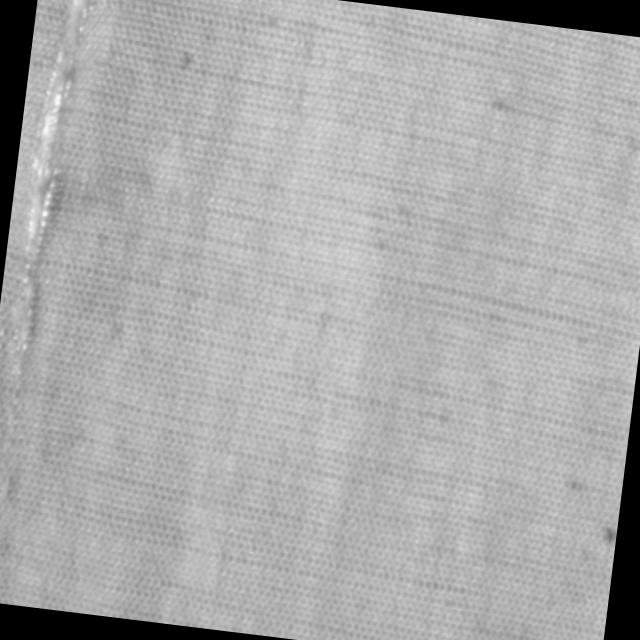thread error: (0, 0, 111, 388)
